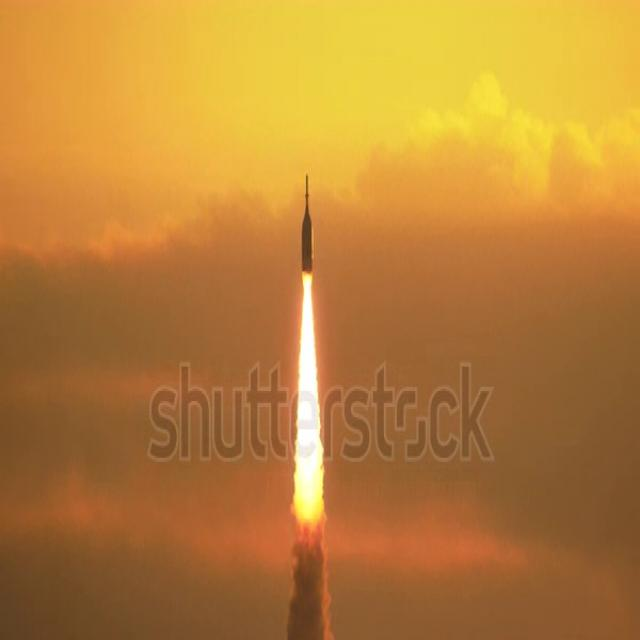rocket: (292, 164, 322, 401)
